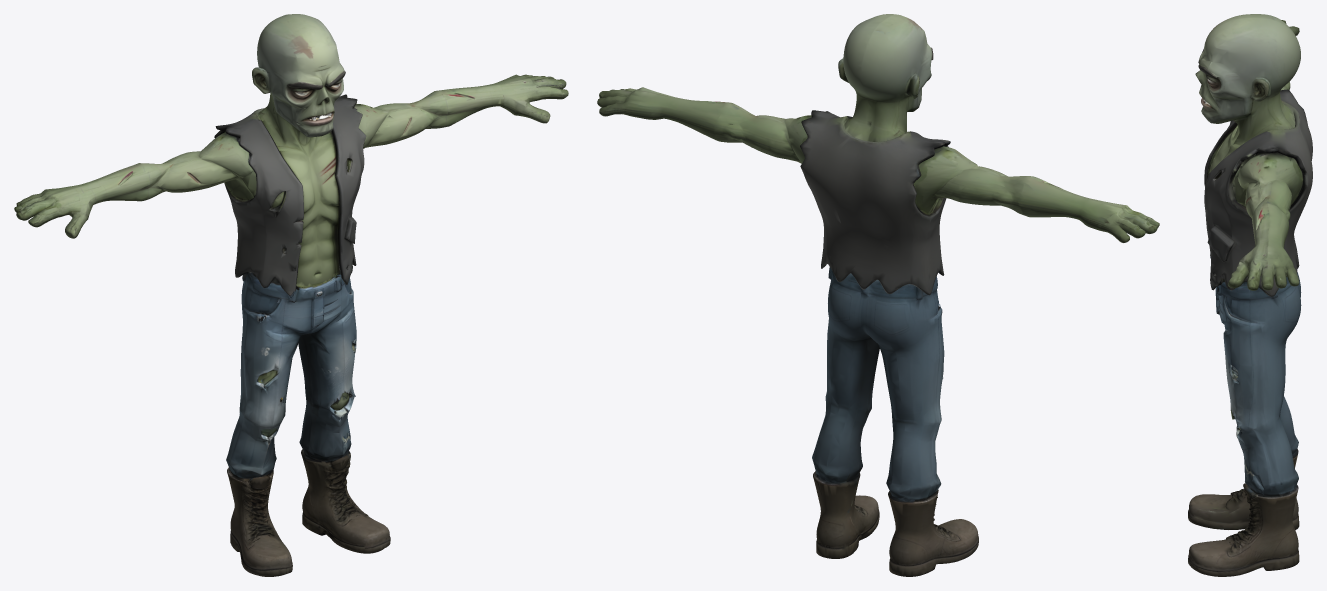
Rendered from zombie_rigged.glb.
3 views of the same model, side by side, from view 1: azimuth 30°, elevation 25°; view 2: azimuth 150°, elevation 25°; view 3: azimuth 270°, elevation 25° (orthographic).
Parts seen in each view (by area): view 1: node_0; view 2: node_0; view 3: node_0.
Part boxes in pixels (box(x1,y1,x2,y2)): node_0: box(14, 14, 568, 576); node_0: box(597, 14, 1159, 576); node_0: box(1188, 14, 1312, 576).
Bounding box in the file's own units: 1.09 × 1 × 0.2148.
Materials: 1 (1 with a texture image).
